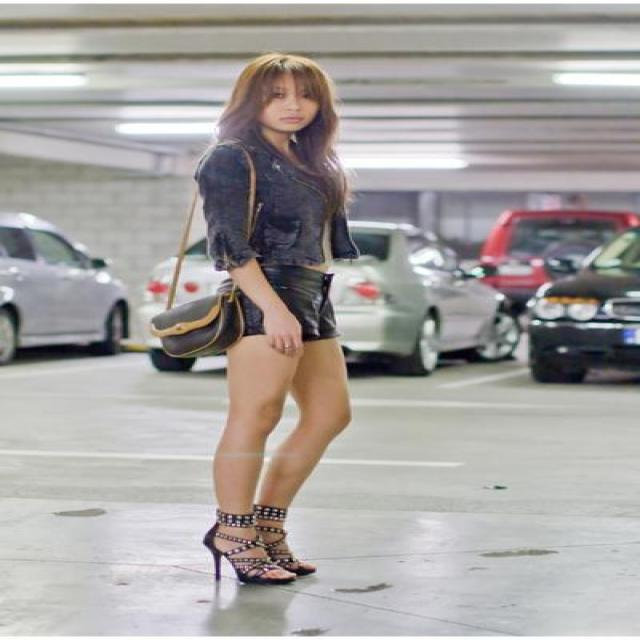bag: (152, 254, 264, 355)
jacket: (184, 147, 363, 272)
shoe: (203, 504, 314, 588)
shorts: (260, 258, 334, 341)
